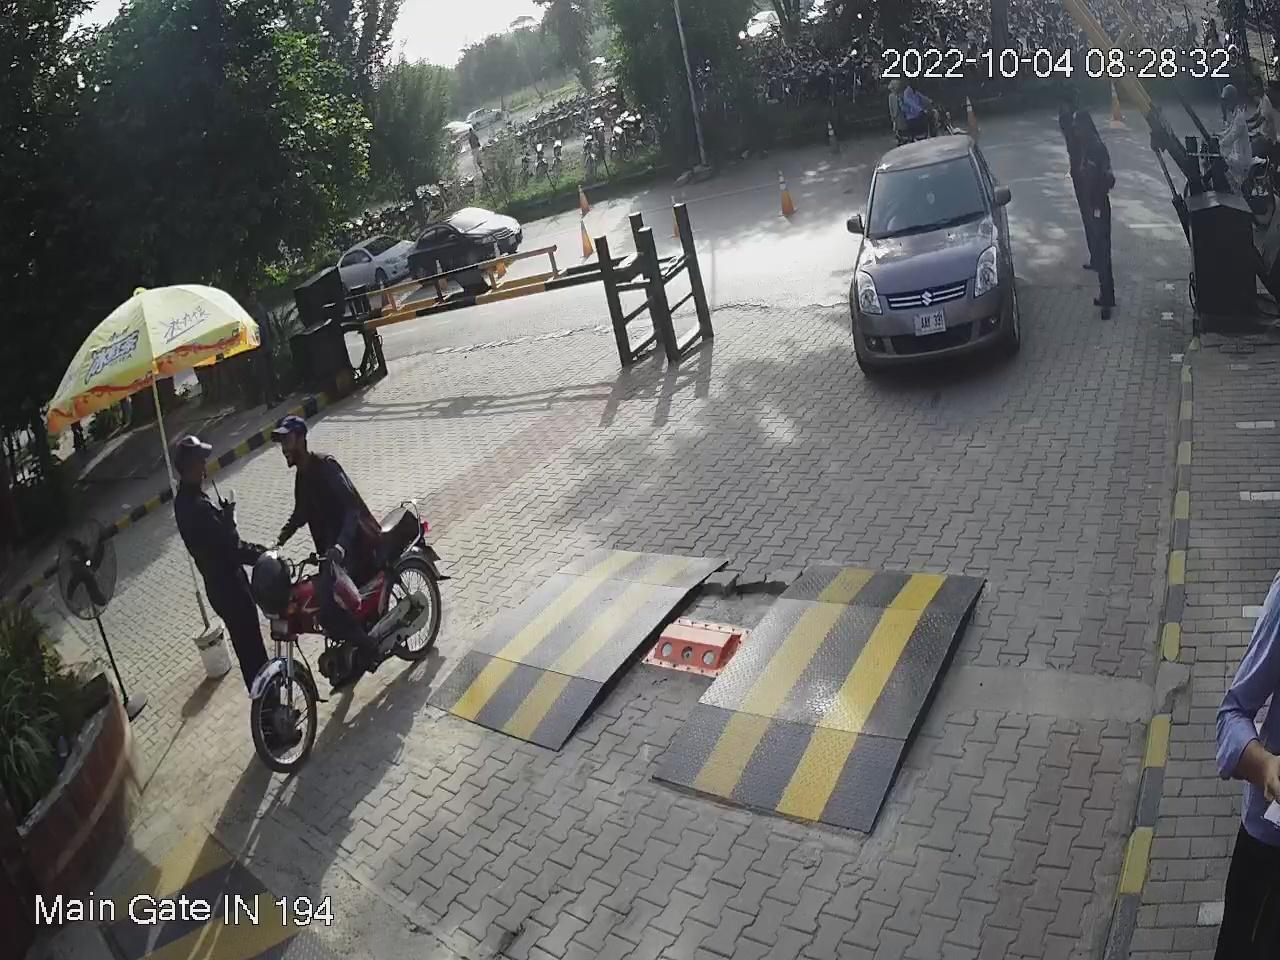windshield: (868, 150, 991, 240)
